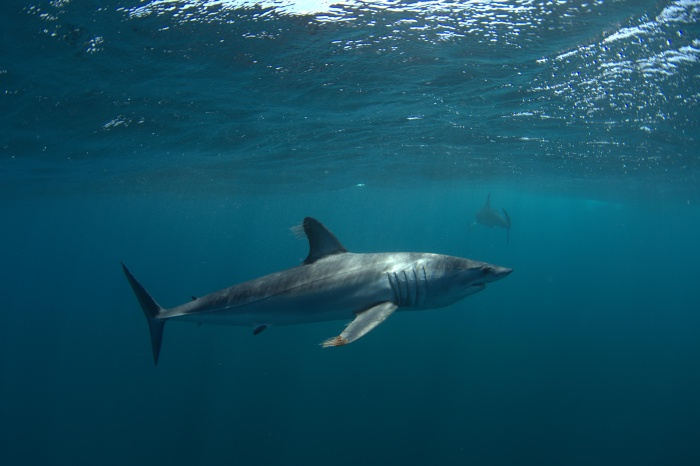Mako: (111, 213, 516, 369)
